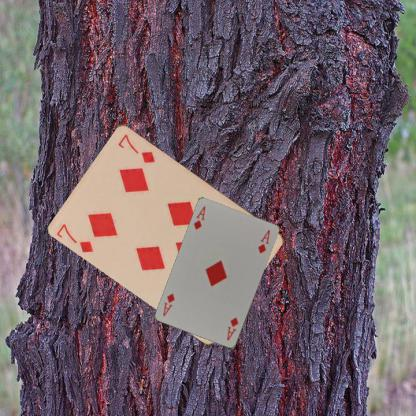7d: (54, 221, 95, 254)
Ad: (224, 315, 240, 342), (191, 204, 207, 231)
